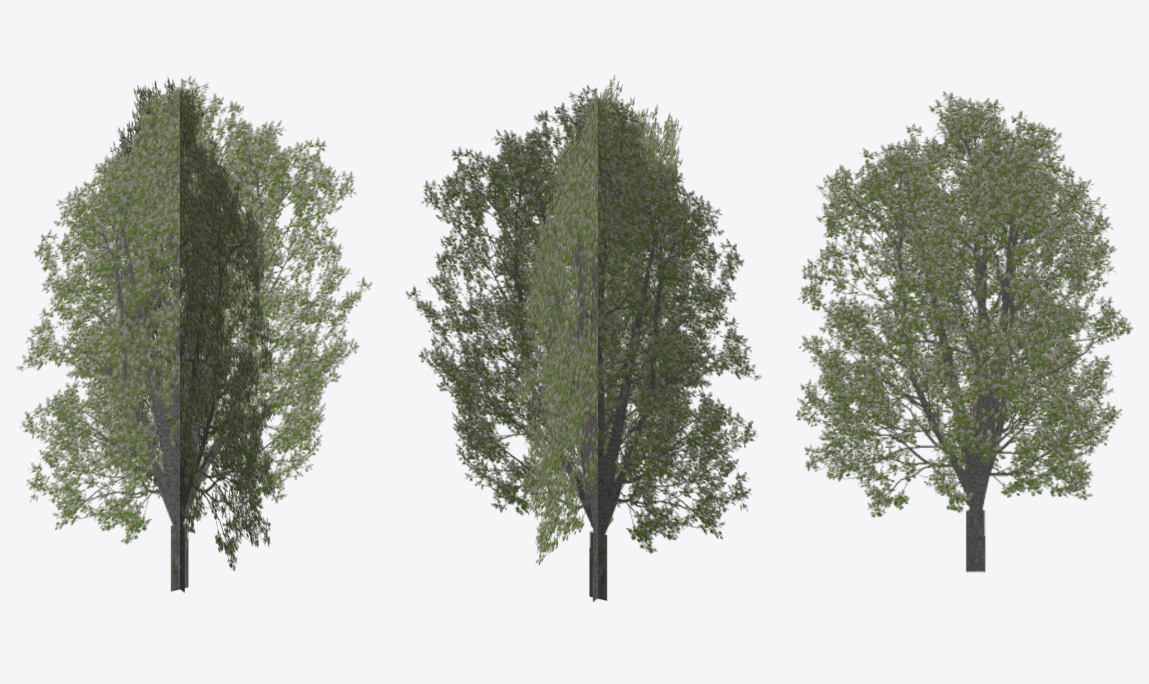
The model's file is AesculusHippocastanum.glb.
3 renders of one model, left to right at view 1: azimuth 30°, elevation 25°; view 2: azimuth 150°, elevation 25°; view 3: azimuth 270°, elevation 25°, orthographic. The views are drawn at different scales.
Visible parts, largest first — view 1: mesh__mat_billboard_14; view 2: mesh__mat_billboard_14; view 3: mesh__mat_billboard_14.
Boxes of the visible parts, x1=… form: mesh__mat_billboard_14: x1=16, y1=76, x2=372, y2=592; mesh__mat_billboard_14: x1=405, y1=75, x2=761, y2=602; mesh__mat_billboard_14: x1=795, y1=91, x2=1133, y2=572.
Bounding box in the file's own units: 14.95 × 20.71 × 13.12.
Materials: 1 (1 with a texture image).
